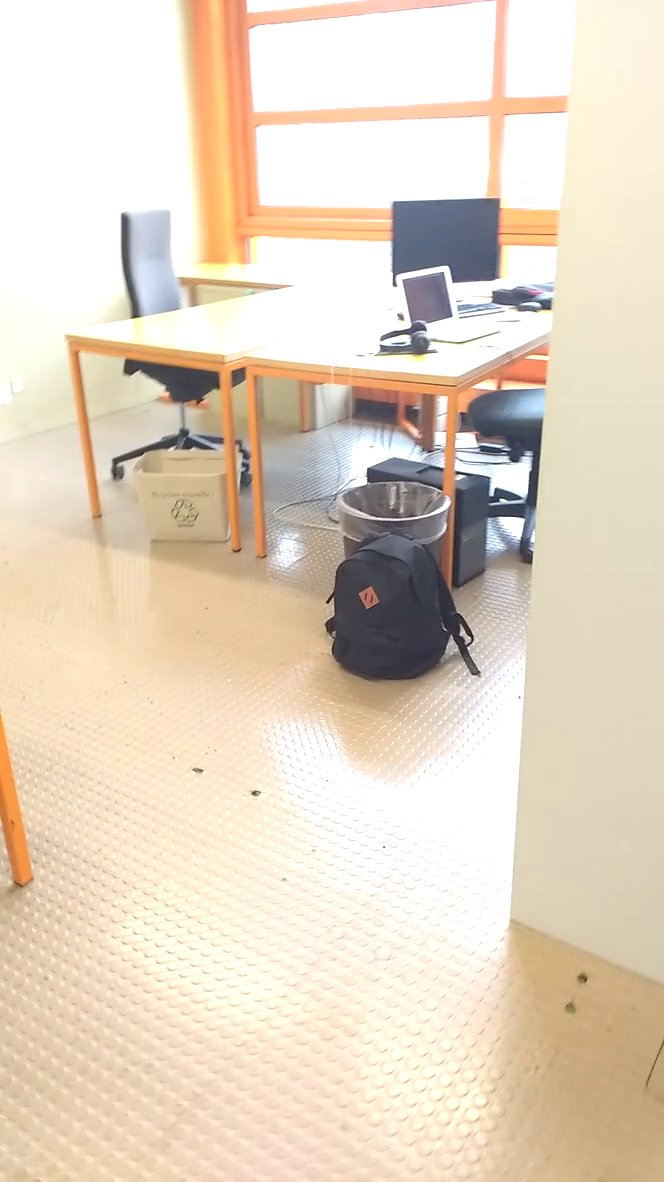bag: (321, 522, 491, 684)
bin: (324, 474, 459, 555)
box: (127, 444, 247, 550)
chair: (103, 191, 253, 485)
laptop: (381, 256, 516, 348)
